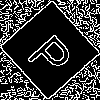P: (25, 25, 82, 82)
